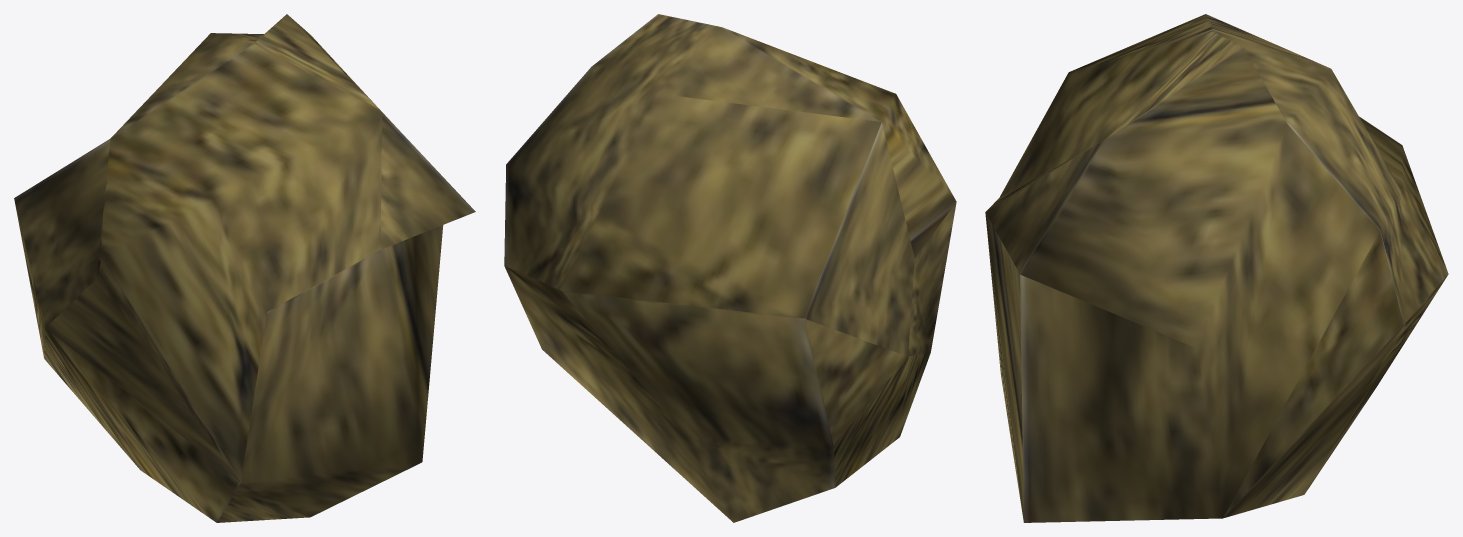
File: rock.obj
3 renders of one model, left to right at view 1: azimuth 30°, elevation 25°; view 2: azimuth 150°, elevation 25°; view 3: azimuth 270°, elevation 25°, orthographic. The views are drawn at different scales.
Parts seen in each view (by area): view 1: Box01; view 2: Box01; view 3: Box01.
Boxes of the visible parts, x1,y1,x2,y2 form: Box01: (14, 14, 475, 522); Box01: (504, 14, 956, 522); Box01: (985, 14, 1448, 522).
Bounding box in the file's own units: 0.315 × 0.3671 × 0.3065.
